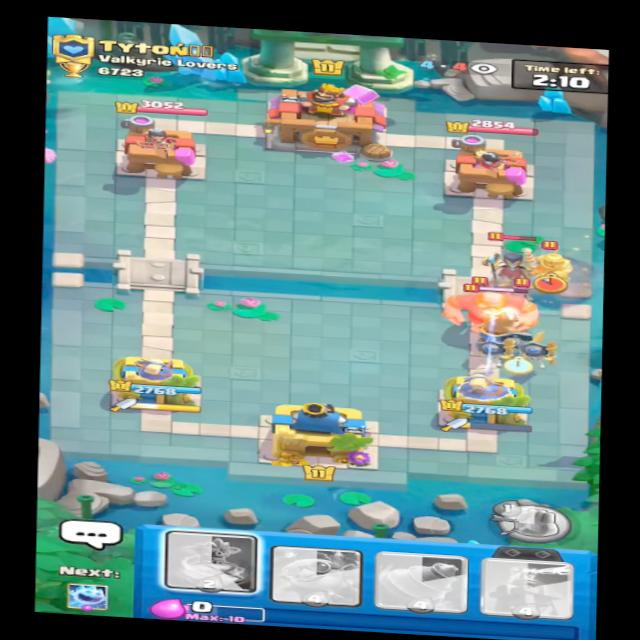giant: (444, 277, 545, 338)
night-witch: (479, 240, 547, 288)
prince: (516, 241, 583, 291)
